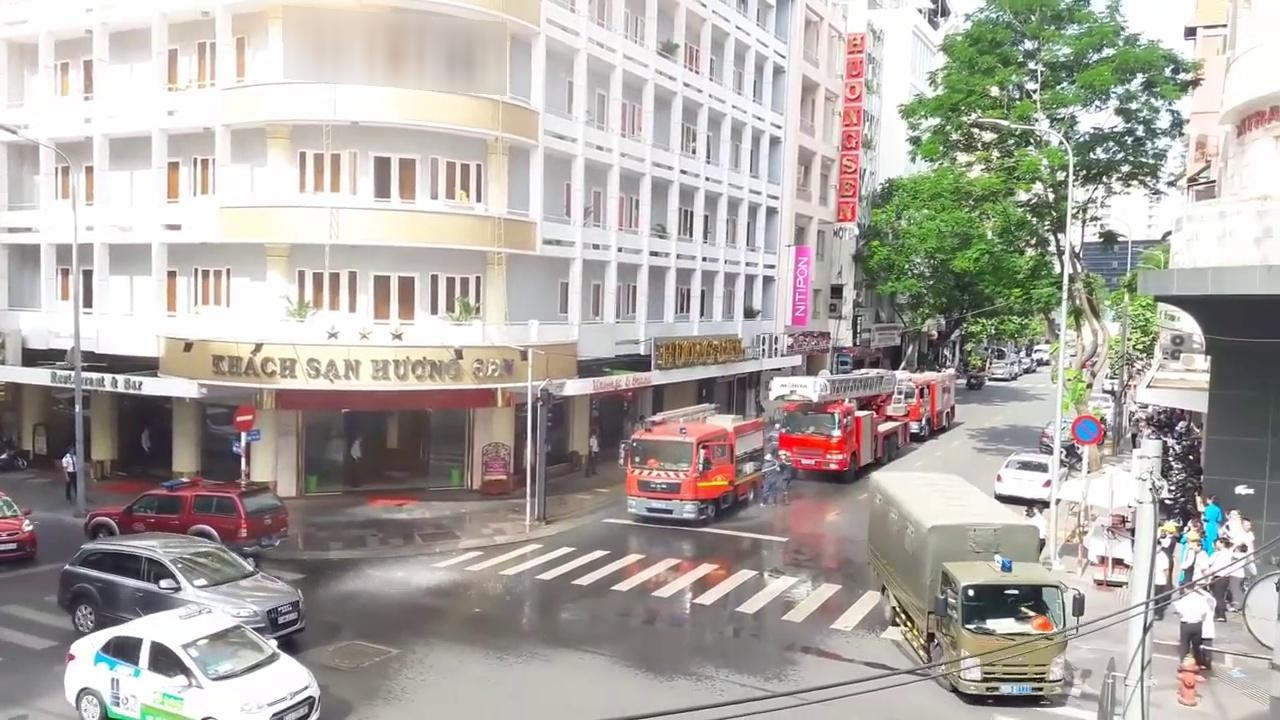xe cuu hoa: (768, 368, 909, 483), (624, 403, 761, 520)
xe hoi: (63, 603, 322, 720), (57, 533, 304, 637), (84, 473, 288, 547), (993, 451, 1053, 498), (0, 487, 36, 558)
xe tai: (870, 468, 1069, 697)
